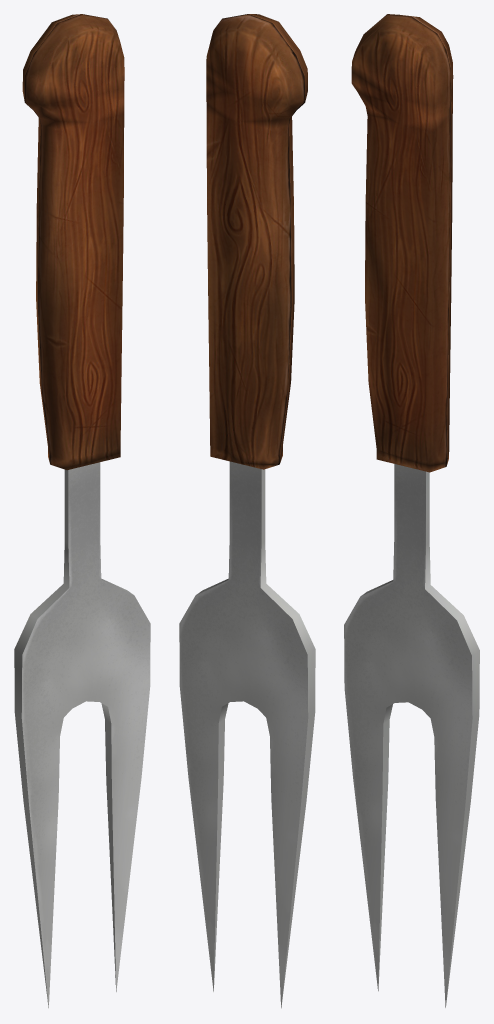
The model's file is CheeseFork.fbx.
The picture shows the model from 3 angles, left to right: view 1: azimuth 30°, elevation 25°; view 2: azimuth 150°, elevation 25°; view 3: azimuth 330°, elevation 25°; orthographic projection.
Parts seen in each view (by area): view 1: fork.001; view 2: fork.001; view 3: fork.001.
Part boxes in pixels (left/top/right/bottom): fork.001: left=14, top=14, right=150, bottom=1008; fork.001: left=179, top=14, right=315, bottom=1008; fork.001: left=344, top=14, right=479, bottom=1007.
Bounding box in the file's own units: 11.31 × 83.19 × 2.93.
